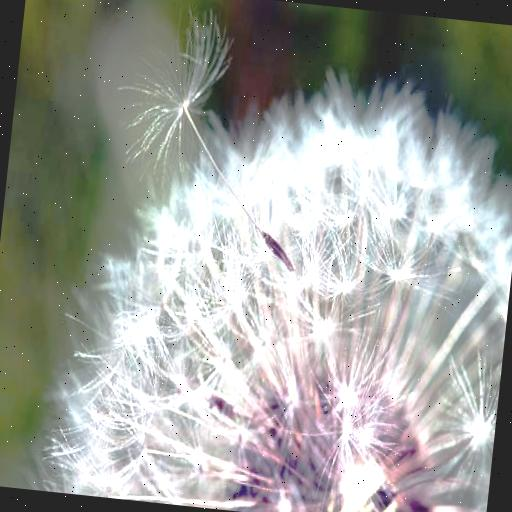dandelion: (38, 36, 512, 512)
